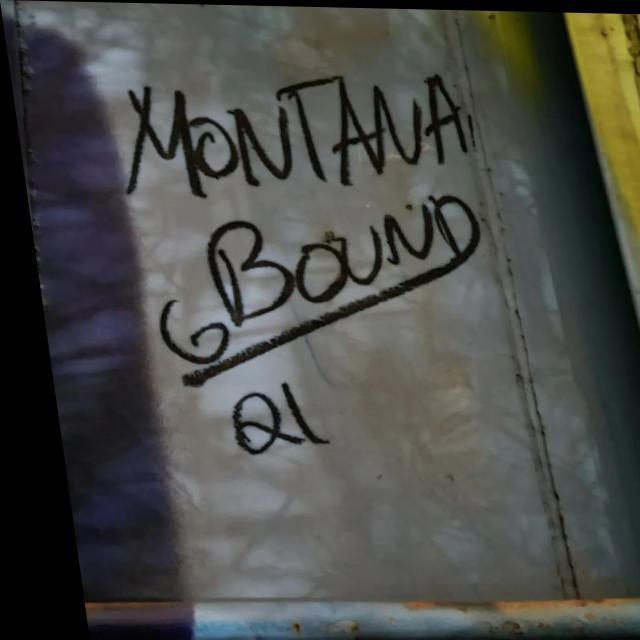-: (48, 10, 526, 483)
